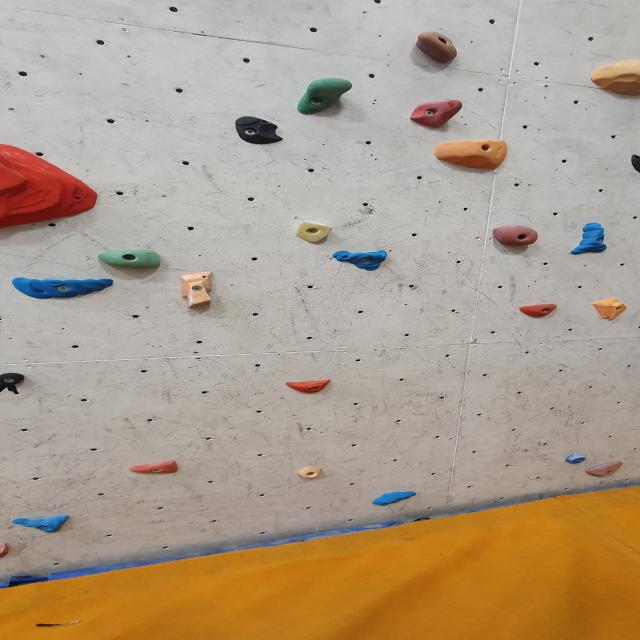Crimp: (0, 143, 103, 236), (9, 277, 118, 299), (331, 249, 391, 276), (590, 299, 630, 322), (12, 517, 74, 531), (584, 459, 626, 478), (126, 460, 183, 474), (283, 380, 337, 394), (371, 491, 418, 506), (294, 463, 328, 483), (515, 305, 560, 319), (626, 151, 640, 174), (564, 455, 586, 464)
Jug: (294, 79, 354, 117), (407, 100, 464, 129), (95, 249, 163, 272), (413, 34, 460, 65), (488, 226, 539, 249), (0, 371, 28, 386)
Pinch: (172, 268, 232, 314), (569, 220, 609, 254)
Sloper: (431, 139, 510, 171), (588, 59, 640, 98), (231, 118, 286, 146), (295, 224, 334, 246)
